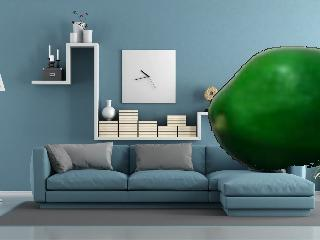lime: (209, 46, 320, 173)
